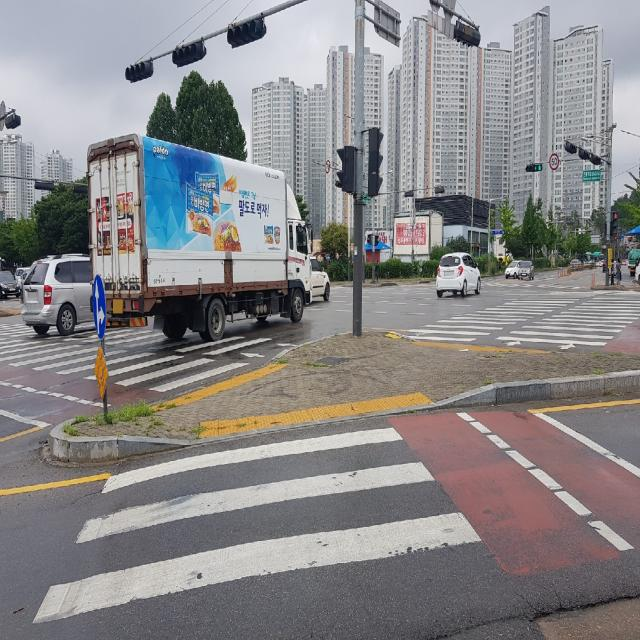횡단보도: (31, 421, 485, 628), (0, 286, 303, 394), (401, 286, 638, 362)
